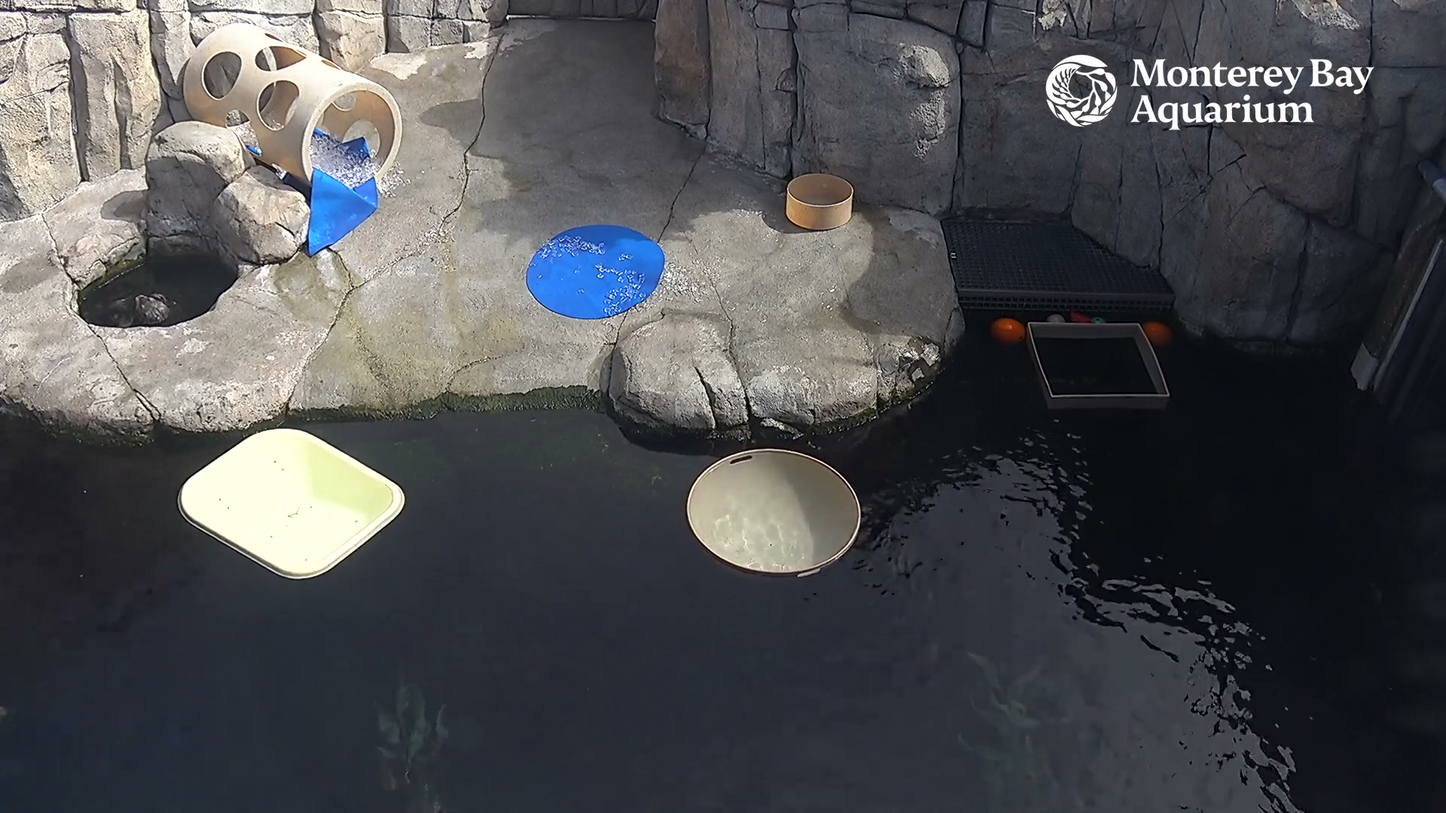Southern Sea Otter: (106, 293, 178, 331)
